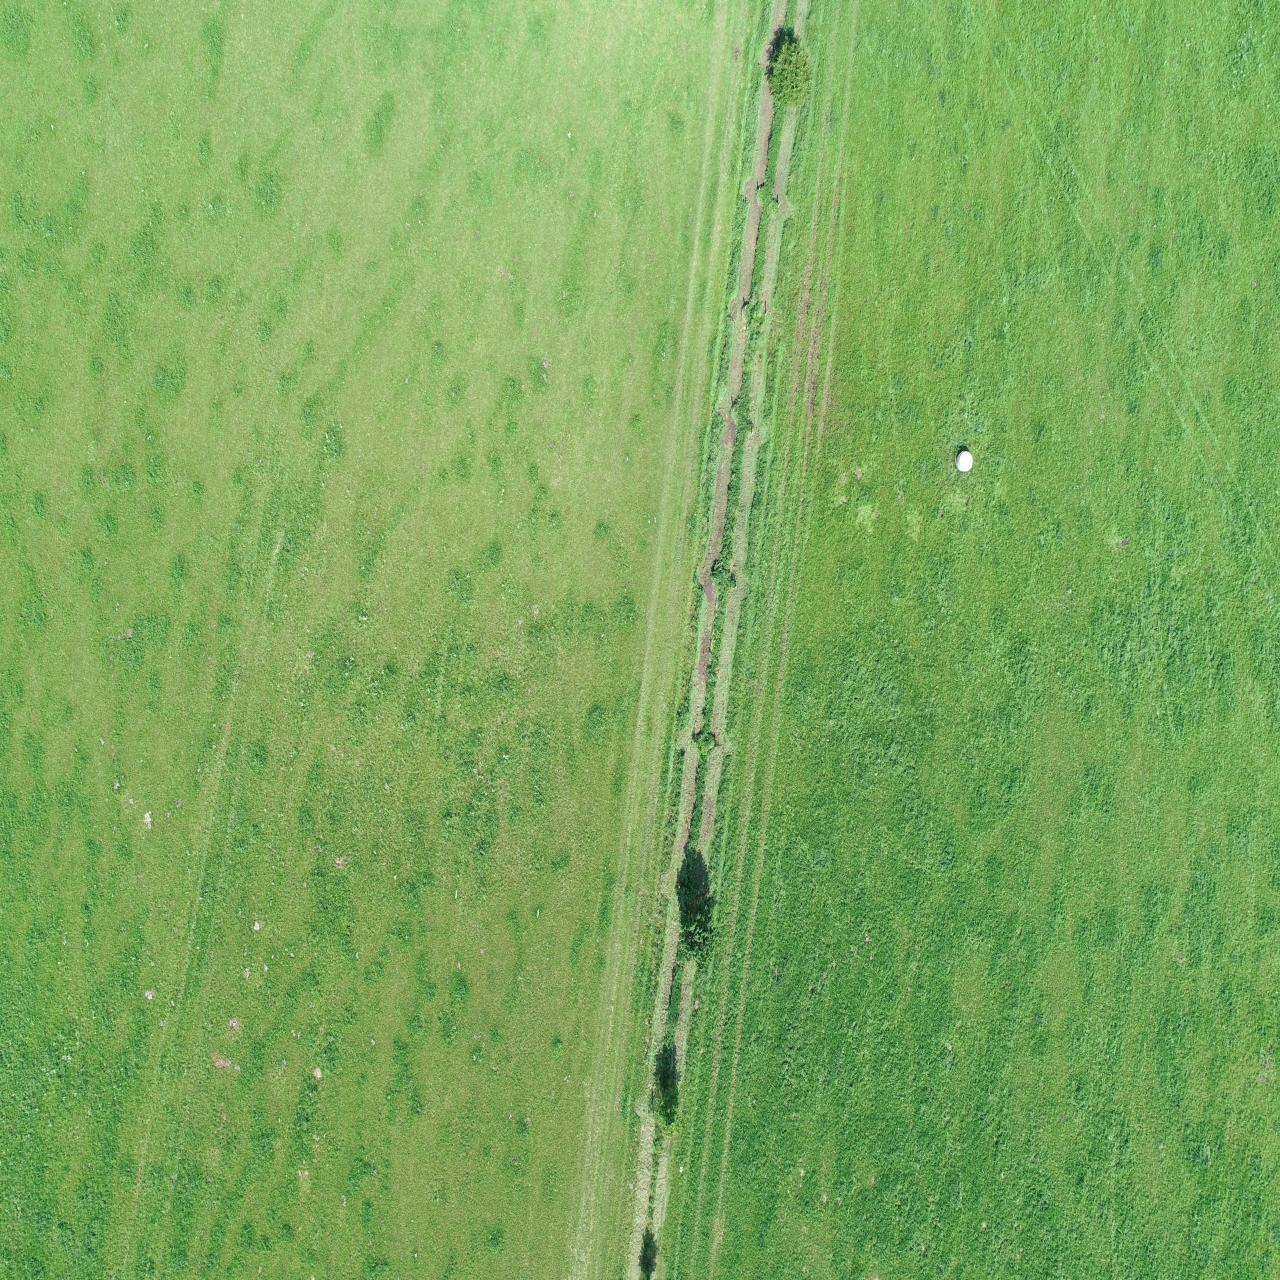cow: (1110, 278, 1159, 341), (1228, 311, 1265, 393), (966, 498, 1017, 554), (1206, 22, 1250, 88), (962, 93, 1014, 147), (1214, 661, 1266, 713), (1149, 792, 1185, 864), (1153, 450, 1199, 504), (1136, 77, 1166, 158), (699, 349, 734, 418), (1075, 885, 1118, 940), (1230, 165, 1262, 237), (1142, 524, 1179, 586), (795, 452, 829, 519), (879, 444, 912, 513), (1022, 9, 1051, 87), (682, 408, 723, 463), (908, 149, 944, 211), (869, 577, 920, 619), (1153, 937, 1179, 1021), (1046, 461, 1081, 522), (980, 710, 1024, 758), (866, 294, 918, 335), (946, 365, 986, 417), (947, 256, 1002, 291), (1186, 742, 1217, 805), (1029, 224, 1077, 264), (1118, 694, 1146, 761), (805, 358, 851, 399), (1170, 397, 1219, 435), (805, 286, 857, 319), (682, 591, 706, 661), (717, 497, 765, 529), (803, 640, 832, 689), (974, 327, 1015, 361), (478, 425, 527, 449)
